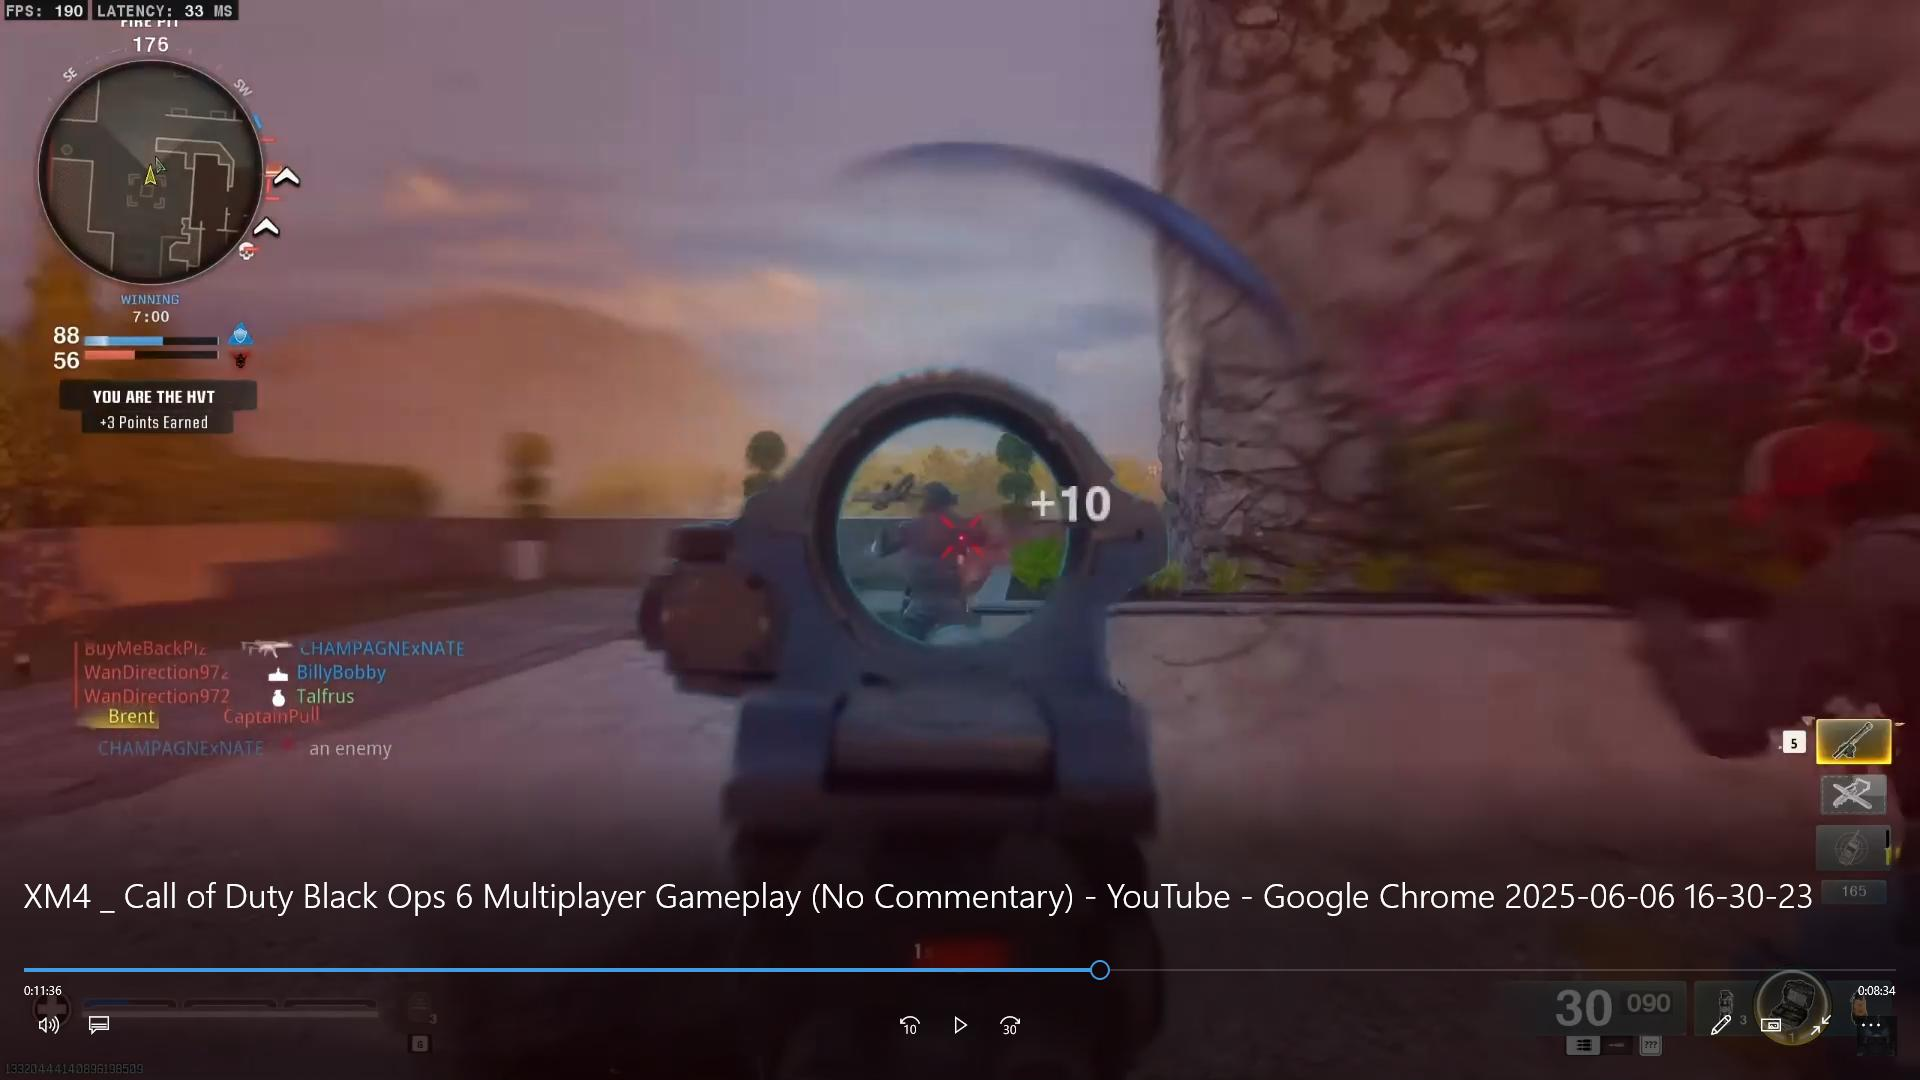Enemy: (866, 467, 990, 624)
